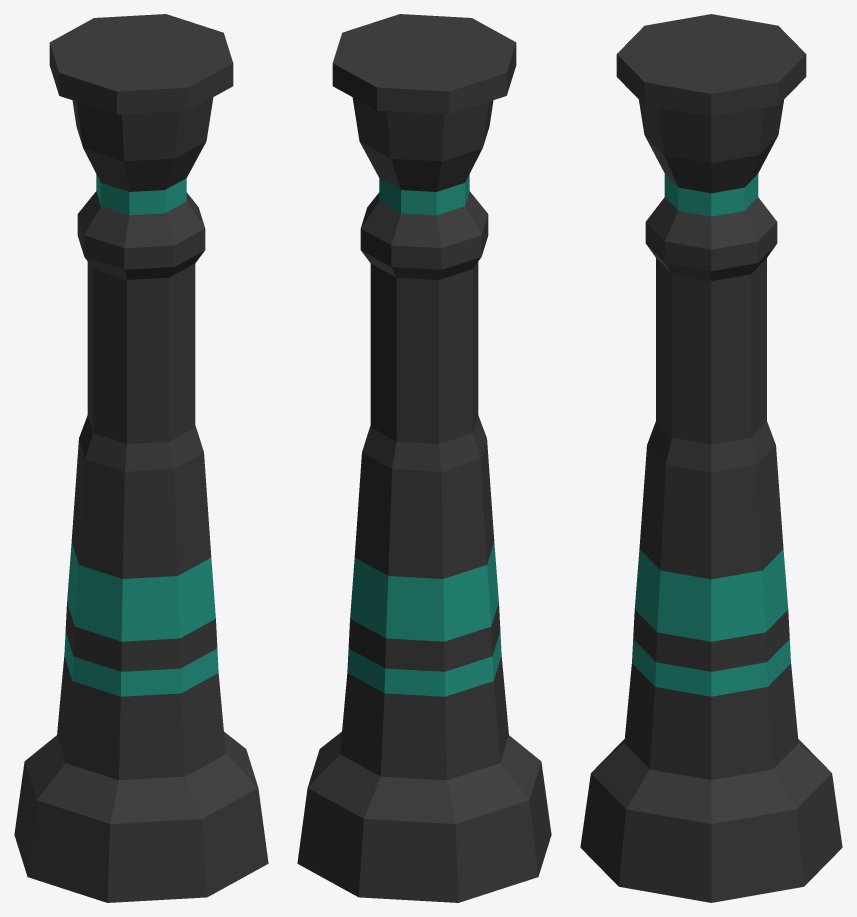
The model's file is Column_Short_FBX.fbx.
3 views of the same model, side by side, from view 1: azimuth 30°, elevation 25°; view 2: azimuth 150°, elevation 25°; view 3: azimuth 270°, elevation 25° (orthographic).
Visible parts, largest first — view 1: Pillar002; view 2: Pillar002; view 3: Pillar002.
Part boxes in pixels (<box>): Pillar002: <box>14,14,268,902</box>; Pillar002: <box>297,14,551,902</box>; Pillar002: <box>580,14,842,902</box>.
Bounding box in the file's own units: 91.49 × 306 × 91.49.
